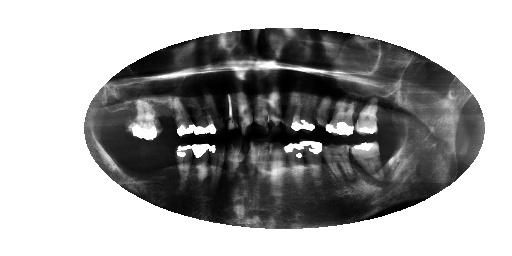i10healthy: (193, 143, 210, 185)
i11healthy: (176, 144, 194, 186)
i12loss: (167, 147, 180, 183)
i13loss: (154, 146, 167, 183)
i14loss: (138, 144, 153, 179)
i15loss: (122, 141, 138, 178)
i16loss: (104, 137, 121, 165)
i1loss: (381, 141, 394, 172)
i2healthy: (350, 144, 382, 182)
i3healthy: (323, 144, 352, 185)
i4healthy: (302, 140, 323, 190)
i5healthy: (284, 143, 304, 189)
i6healthy: (271, 144, 286, 193)
i7decay: (249, 142, 271, 188)
i8decay: (227, 142, 247, 186)
i9healthy: (209, 142, 226, 186)
u10chipped: (228, 91, 239, 130)
u11decay: (205, 91, 227, 134)
u12decay: (193, 97, 216, 135)
u13healthy: (172, 97, 195, 138)
u14loss: (156, 98, 176, 142)
u15healthy: (128, 101, 160, 140)
u16loss: (106, 102, 130, 134)
u1loss: (381, 105, 403, 137)
u2healthy: (355, 97, 380, 136)
u3healthy: (331, 98, 358, 138)
u4chipped: (316, 97, 330, 133)
u5decay: (301, 94, 315, 132)
u6decay: (285, 90, 302, 137)
u7chipped: (268, 87, 284, 137)
u8chipped: (255, 87, 269, 138)
u9chipped: (238, 88, 254, 138)
